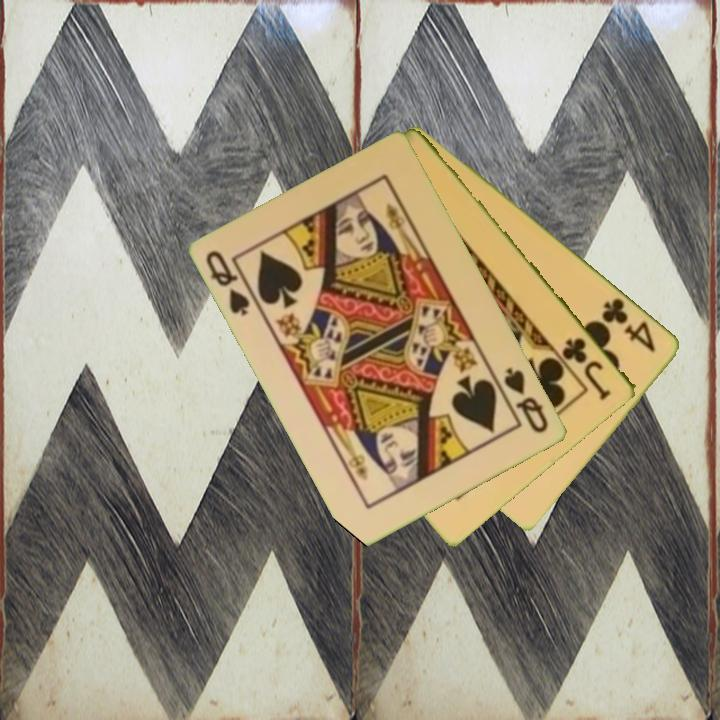4c: (598, 294, 659, 355)
Jc: (559, 334, 615, 403)
Qs: (202, 246, 263, 319), (500, 364, 552, 436)
